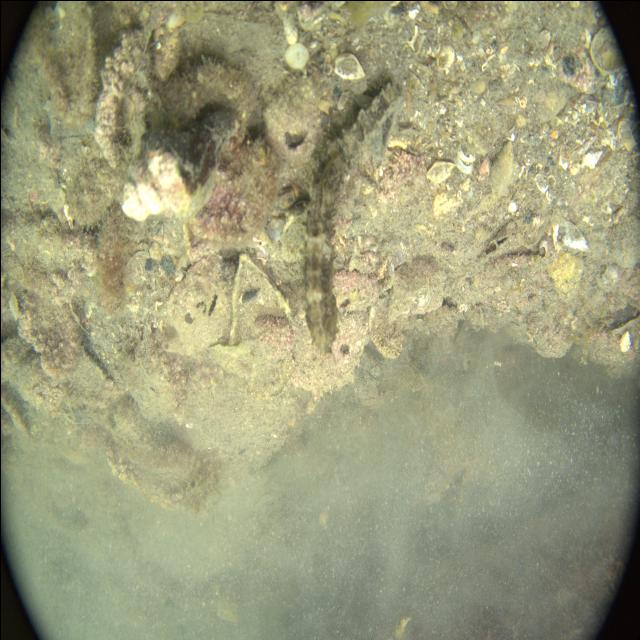Guttu: (299, 162, 342, 358)
